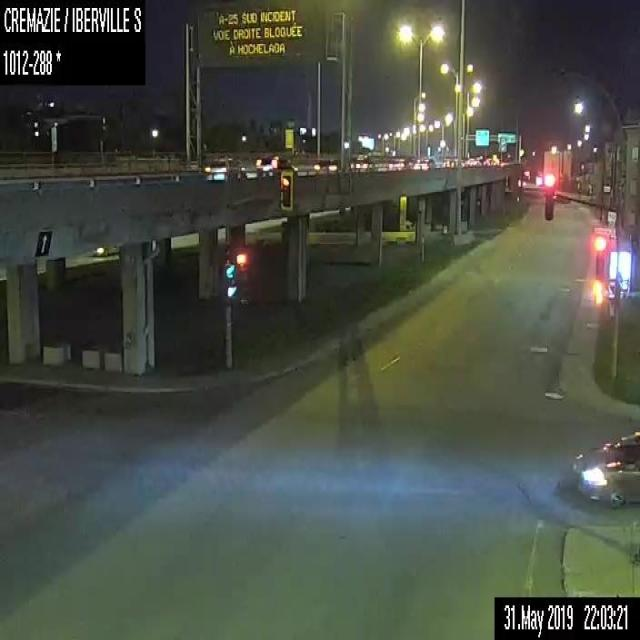vehicle: (571, 428, 639, 507), (205, 154, 248, 181), (255, 153, 298, 179), (350, 153, 374, 170), (316, 157, 340, 172), (388, 156, 411, 169), (413, 156, 435, 169), (465, 156, 481, 167), (445, 156, 458, 168), (482, 156, 493, 166)
